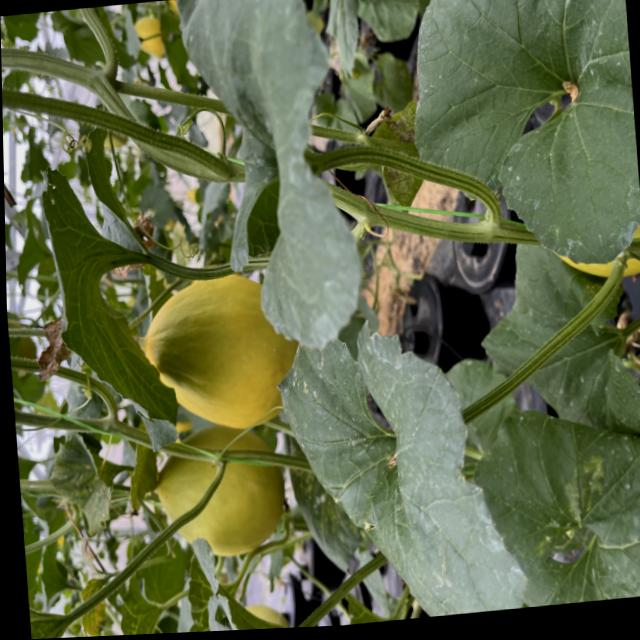downy mildew: (184, 0, 402, 382), (261, 324, 488, 629), (404, 0, 640, 289), (441, 396, 640, 615), (25, 172, 177, 451), (159, 525, 298, 633), (66, 571, 175, 638), (49, 446, 112, 530), (24, 545, 77, 639)
